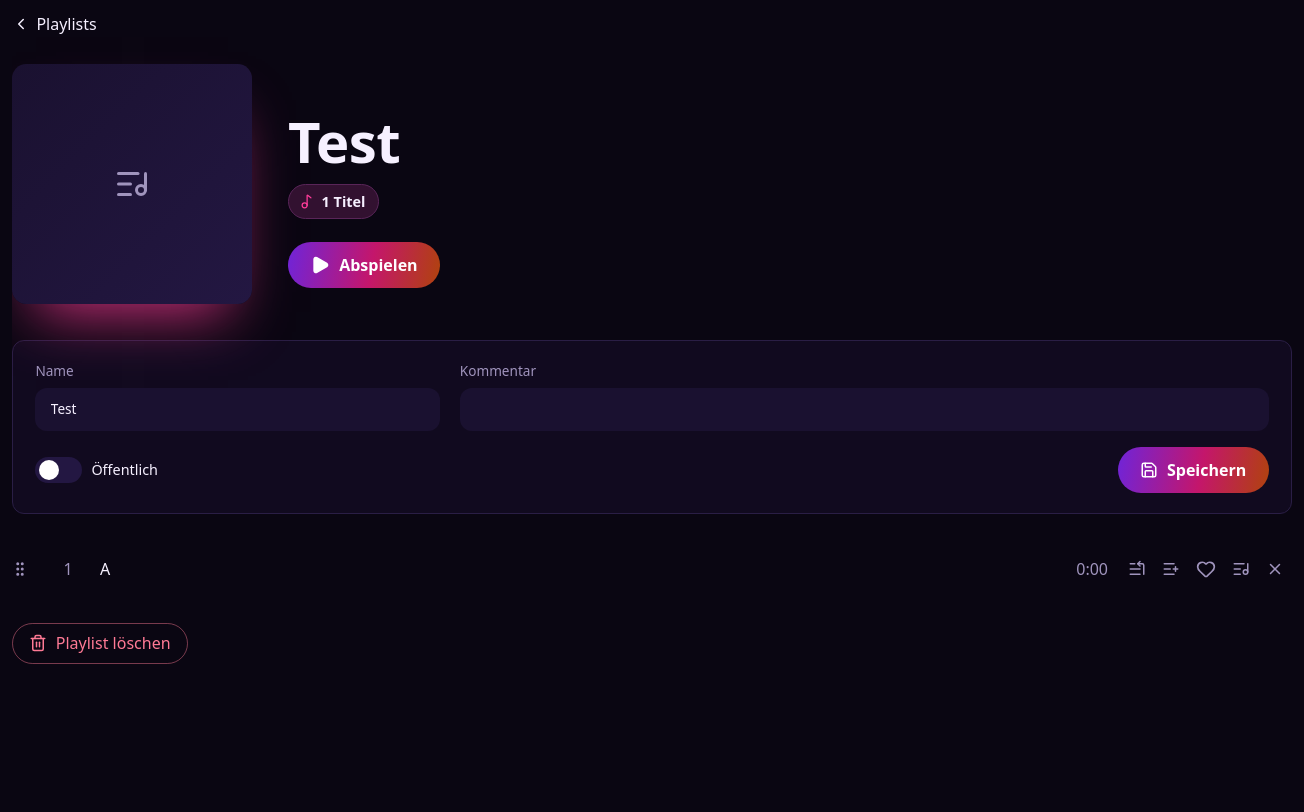
Test: Playlist-Entfernen (#5) › bietet nach einem fehlgeschlagenen Refetch keine veralteten Entfernen-Aktionen an
The width and height of the screenshot is (1304, 812).
Click the button named "Entfernen". click: point(1275, 569)
box: [1258, 552, 1292, 586]
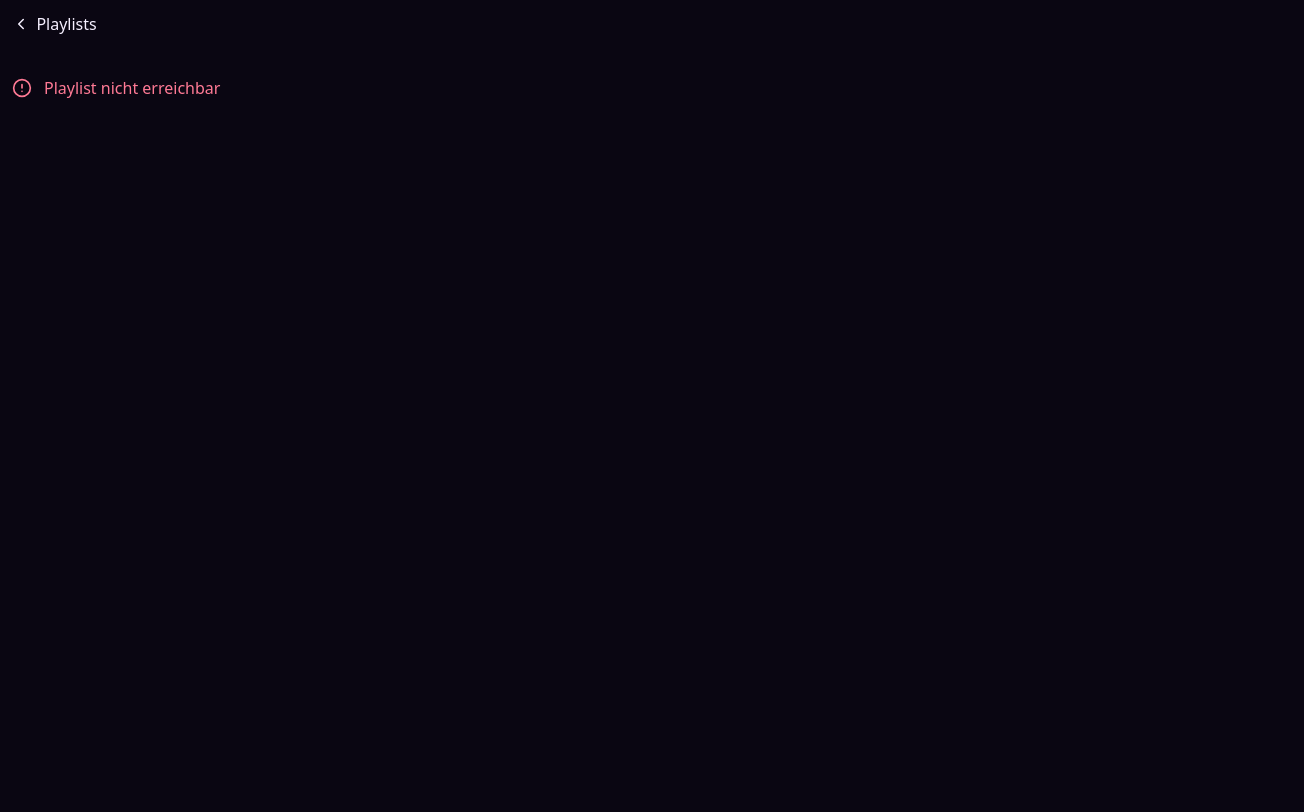
Expected: the message "Playlist nicht erreichbar" is shown, [12, 77, 220, 99]
Expected: the button "Entfernen" is gone
